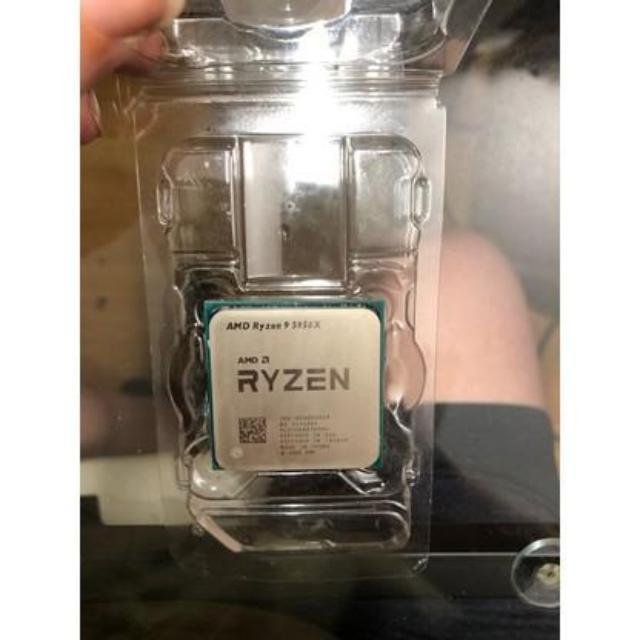CPU: (202, 302, 384, 469)
